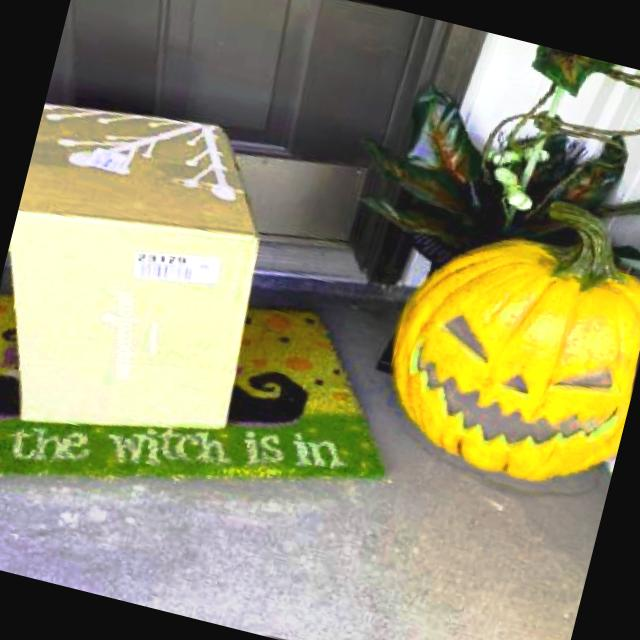Box: (370, 274, 493, 377), (254, 225, 366, 328), (210, 292, 339, 379), (0, 238, 70, 335), (26, 111, 106, 192), (10, 179, 68, 253)
